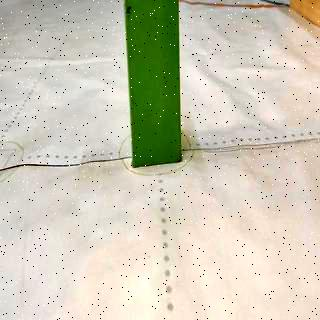greenbox: (122, 1, 190, 166)
